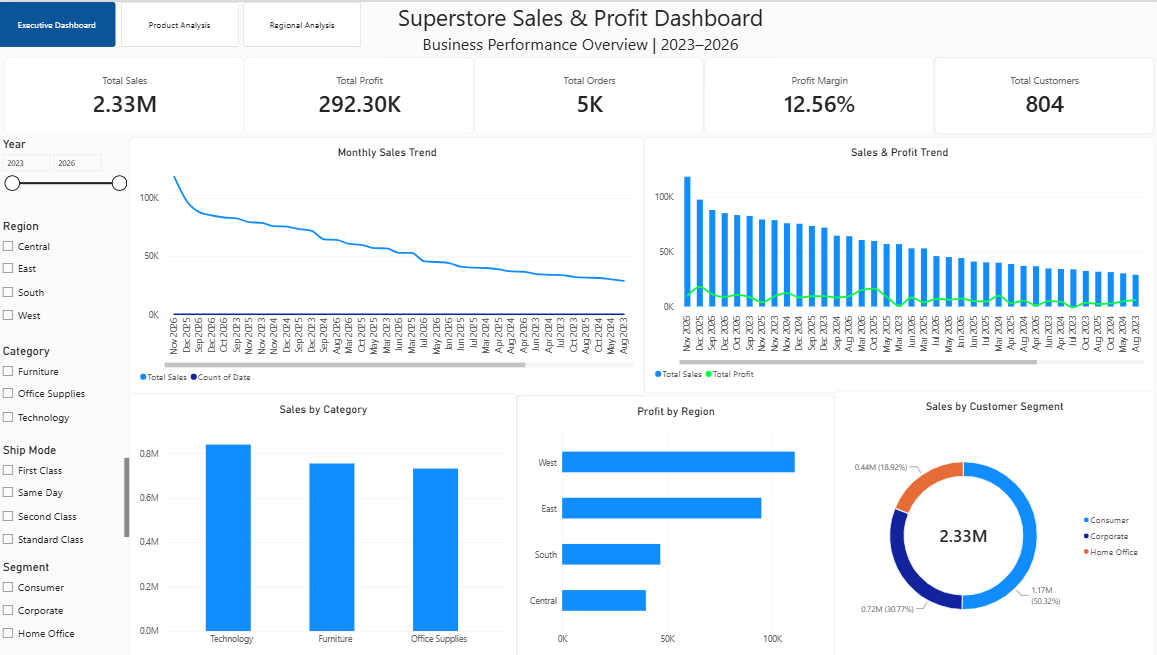

This screenshot's page, from the dashboard's own definition file:
{"tool":"powerbi","page":{"name":"Executive Dashboard","canvas":[1920,1080],"ordinal":0},"visuals":[{"type":"textbox","box":[10,0,280,280],"z":0},{"type":"textbox","box":[638.1,0,642.2,90.6],"z":1000},{"type":"cardVisual","title":"Total Sales","fields":{"Data":["DateTable.Total Sales"]},"box":[10.3,90.6,395.2,127.6],"z":2000},{"type":"cardVisual","fields":{"Data":["DateTable.Total Profit"]},"box":[405.5,90.6,378.7,127.6],"z":3000},{"type":"cardVisual","fields":{"Data":["DateTable.Total Orders"]},"box":[784.2,90.6,378.7,127.6],"z":4000},{"type":"cardVisual","fields":{"Data":["DateTable.Profit Margin"]},"box":[1163,90.6,378.7,127.6],"z":5000},{"type":"cardVisual","fields":{"Data":["DateTable.Total Customers"]},"box":[1541.7,90.6,362.3,127.6],"z":6000},{"type":"lineChart","title":"Monthly Sales Trend","fields":{"Category":["DateTable.Month Year"],"Y":["DateTable.Total Sales","CountNonNull(DateTable.Date)"]},"box":[216.1,222.3,848,426.1],"z":7000},{"type":"lineClusteredColumnComboChart","title":"Sales & Profit Trend","fields":{"Category":["DateTable.Month Year"],"Y":["DateTable.Total Sales"],"Y2":["DateTable.Total Profit"]},"box":[1064.2,222.3,839.8,422],"z":8000},{"type":"clusteredColumnChart","title":"Sales by Category","fields":{"Category":["SalesData.Category"],"Y":["DateTable.Total Sales"]},"box":[216.1,644.3,638.1,436.4],"z":9000},{"type":"barChart","title":"Profit by Region","fields":{"Category":["SalesData.Region"],"Y":["DateTable.Total Profit"]},"box":[854.2,648.4,522.8,432.2],"z":10000},{"type":"donutChart","title":"Sales by Customer Segment","fields":{"Category":["SalesData.Segment"],"Y":["DateTable.Total Sales"]},"box":[1377,640.1,526.9,440.5],"z":11000},{"type":"slicer","fields":{"Values":["DateTable.Year"]},"box":[0,222.3,216.1,146.1],"z":12000},{"type":"slicer","fields":{"Values":["SalesData.Region"]},"box":[0,358.1,216.1,181.1],"z":13000},{"type":"slicer","fields":{"Values":["SalesData.Category"]},"box":[0,564,216,150],"z":14000},{"type":"slicer","fields":{"Values":["SalesData.Segment"]},"box":[0,920.1,216.1,160.5],"z":15000},{"type":"slicer","fields":{"Values":["SalesData.Ship Mode"]},"box":[0,726.6,216.1,166.7],"z":16000},{"type":"pageNavigator","box":[0,0,599,74.1],"z":17000}]}

Visuals, with their boxes in screenshot pixels (x1, y1, x2, y2), scaled from the page's 1920x1080 canvas onto the 1157x655 screenshot:
textbox: [6,0,175,170]
textbox: [385,0,772,55]
"Total Sales" cardVisual: [6,55,244,132]
cardVisual - DateTable.Total Profit: [244,55,473,132]
cardVisual - DateTable.Total Orders: [473,55,701,132]
cardVisual - DateTable.Profit Margin: [701,55,929,132]
cardVisual - DateTable.Total Customers: [929,55,1147,132]
"Monthly Sales Trend" lineChart: [130,135,641,393]
"Sales & Profit Trend" lineClusteredColumnComboChart: [641,135,1147,391]
"Sales by Category" clusteredColumnChart: [130,391,515,654]
"Profit by Region" barChart: [515,393,830,654]
"Sales by Customer Segment" donutChart: [830,388,1147,654]
slicer - DateTable.Year: [0,135,130,223]
slicer - SalesData.Region: [0,217,130,327]
slicer - SalesData.Category: [0,342,130,433]
slicer - SalesData.Segment: [0,558,130,654]
slicer - SalesData.Ship Mode: [0,441,130,542]
pageNavigator: [0,0,361,45]
